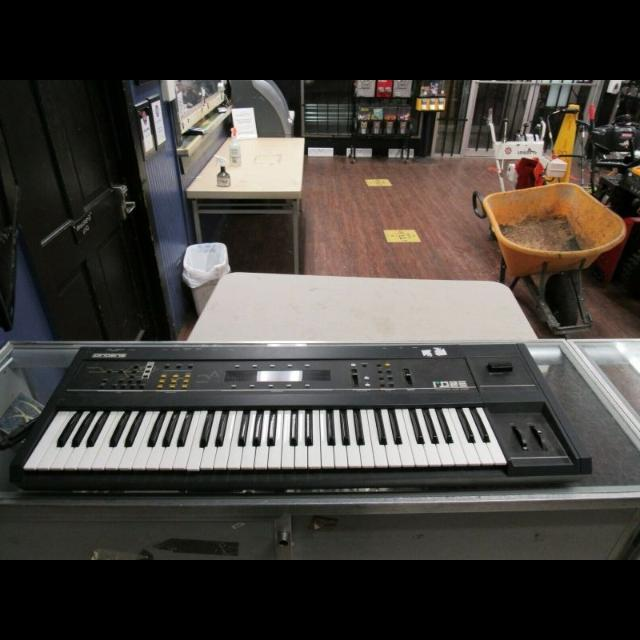Electronic-Keyboard: (35, 332, 599, 483)
